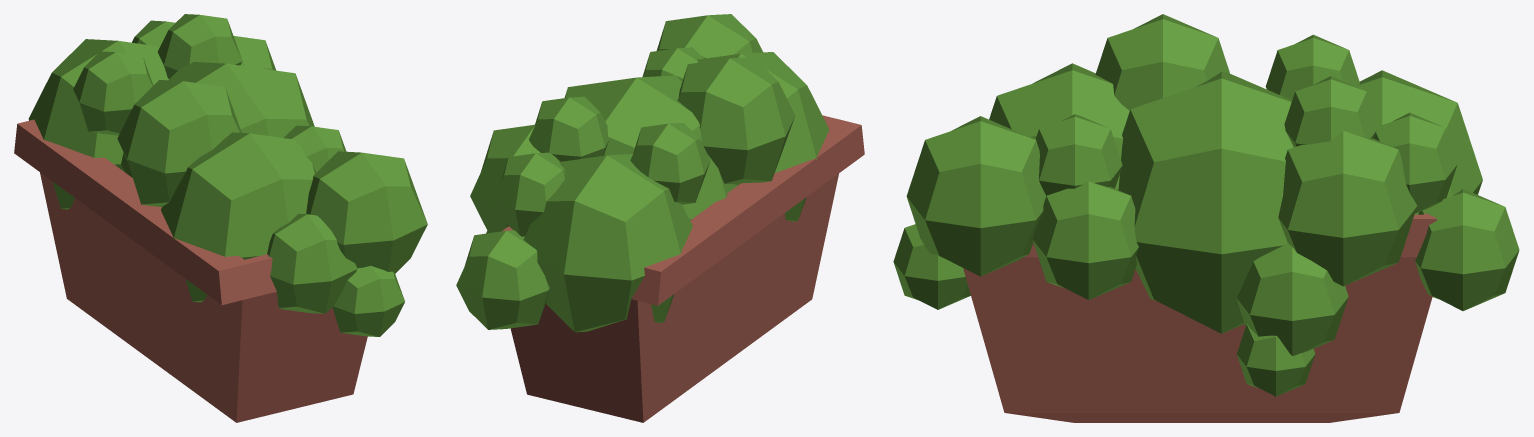
The model's file is window plant roundleaves .fbx.
3 views of the same model, side by side, from view 1: azimuth 30°, elevation 25°; view 2: azimuth 150°, elevation 25°; view 3: azimuth 270°, elevation 25° (orthographic). The views are drawn at different scales.
Parts seen in each view (by area): view 1: Pot1, Leaf3, Leaf1, Leaf13, Leaf6, Leaf, Leaf5, Leaf12, Leaf16, Leaf11, Leaf4, Leaf9 (+1 smaller); view 2: Pot1, Leaf6, Leaf13, Leaf8, Leaf5, Leaf12, Leaf3, Leaf11, Leaf7, Leaf1, Leaf9, Leaf4; view 3: Pot1, Leaf5, Leaf1, Leaf9, Leaf2, Leaf8, Leaf14, Leaf13, Leaf3, Leaf4, Leaf6, Leaf7 (+4 smaller).
Boxes of the visible parts, x1,y1,x2,y2 form: Pot1: (14,119,367,422); Leaf3: (161,132,316,302); Leaf1: (306,151,427,273); Leaf13: (117,80,241,206); Leaf6: (28,39,168,209); Leaf: (267,213,357,313); Leaf5: (121,62,314,177); Leaf12: (73,51,153,135); Leaf16: (332,265,404,336); Leaf11: (157,14,242,78); Leaf4: (284,125,346,172); Leaf9: (233,36,276,70); Pot1: (502,115,864,422); Leaf6: (523,154,692,332); Leaf13: (677,57,795,185); Leaf8: (456,230,549,329); Leaf5: (564,75,737,220); Leaf12: (630,123,710,204); Leaf3: (697,52,829,221); Leaf11: (529,96,608,161); Leaf7: (493,152,565,236); Leaf1: (656,14,762,58); Leaf9: (470,124,540,232); Leaf4: (642,47,703,81); Pot1: (963,213,1436,422); Leaf5: (1118,71,1293,333); Leaf1: (906,116,1046,276); Leaf9: (1278,131,1417,286); Leaf2: (1032,181,1138,299); Leaf8: (1415,189,1519,310); Leaf14: (1236,242,1348,355); Leaf13: (1095,14,1229,110); Leaf3: (989,63,1129,189); Leaf4: (1035,114,1122,195); Leaf6: (1355,70,1482,214); Leaf7: (1373,112,1457,213).
Size of the model in its own units: 31.7 by 38.72 by 61.43.
